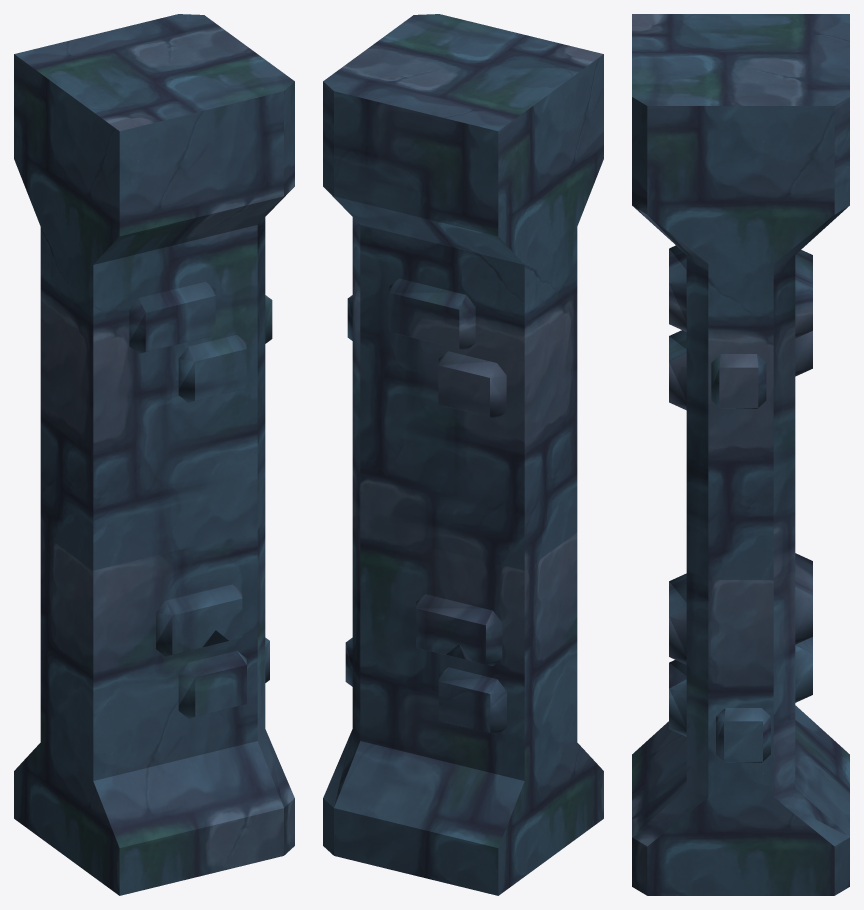
The model's file is wall_endcap.gltf.
3 views of the same model, side by side, from view 1: azimuth 30°, elevation 25°; view 2: azimuth 150°, elevation 25°; view 3: azimuth 270°, elevation 25° (orthographic). The views are drawn at different scales.
Parts seen in each view (by area): view 1: wall_endcap; view 2: wall_endcap; view 3: wall_endcap.
Part boxes in pixels (bbox=[...]): wall_endcap: bbox=[14, 14, 294, 895]; wall_endcap: bbox=[323, 14, 603, 895]; wall_endcap: bbox=[632, 14, 849, 895].
Size of the model in its own units: 1.07 by 4 by 1.
1 material, 1 textured.
